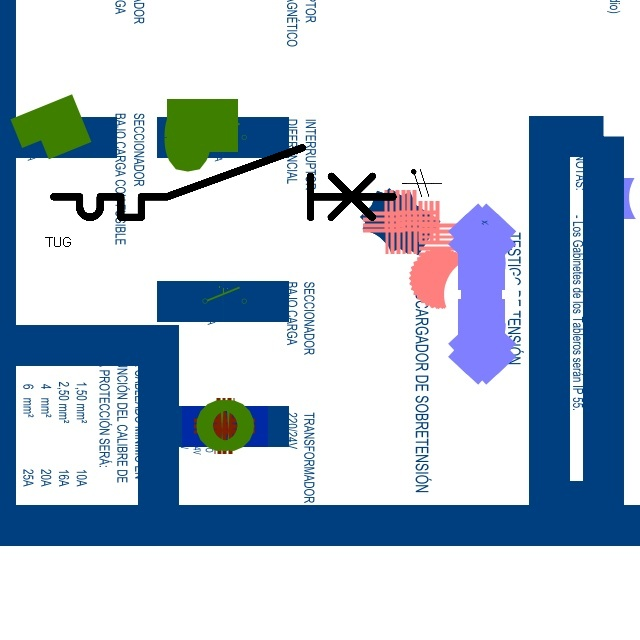interruptor_termomagnetico: (45, 139, 401, 226)
